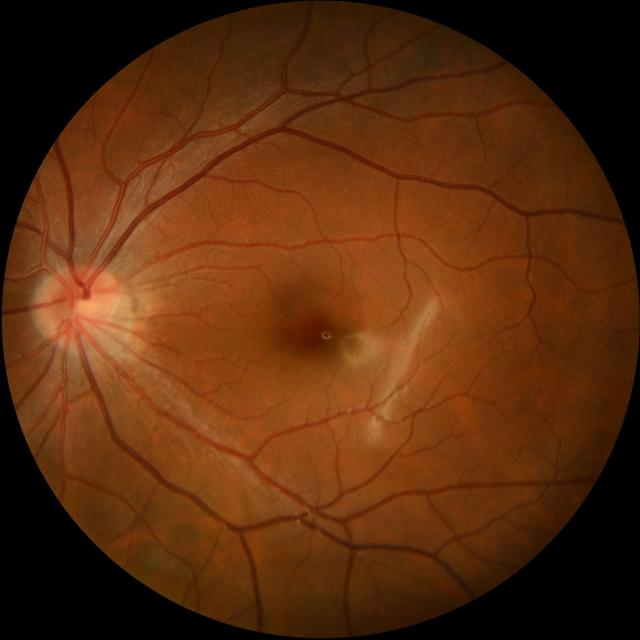OC: (71, 294, 98, 323)
OD: (38, 264, 118, 344)
